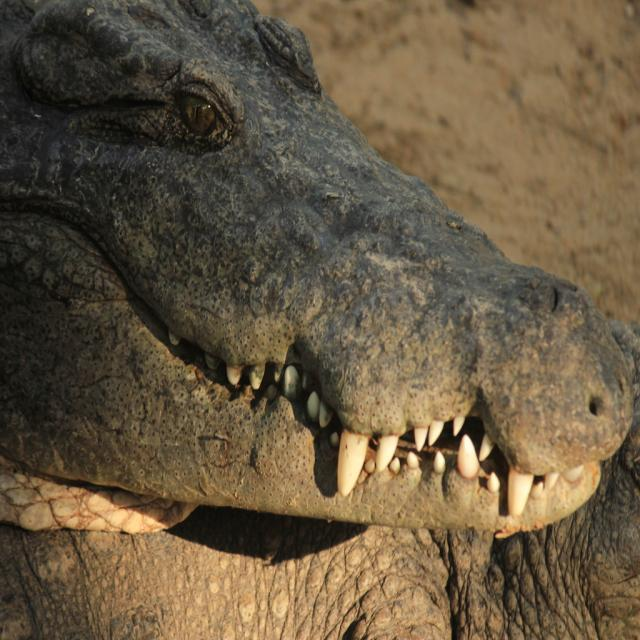crocodile: (0, 0, 634, 534)
